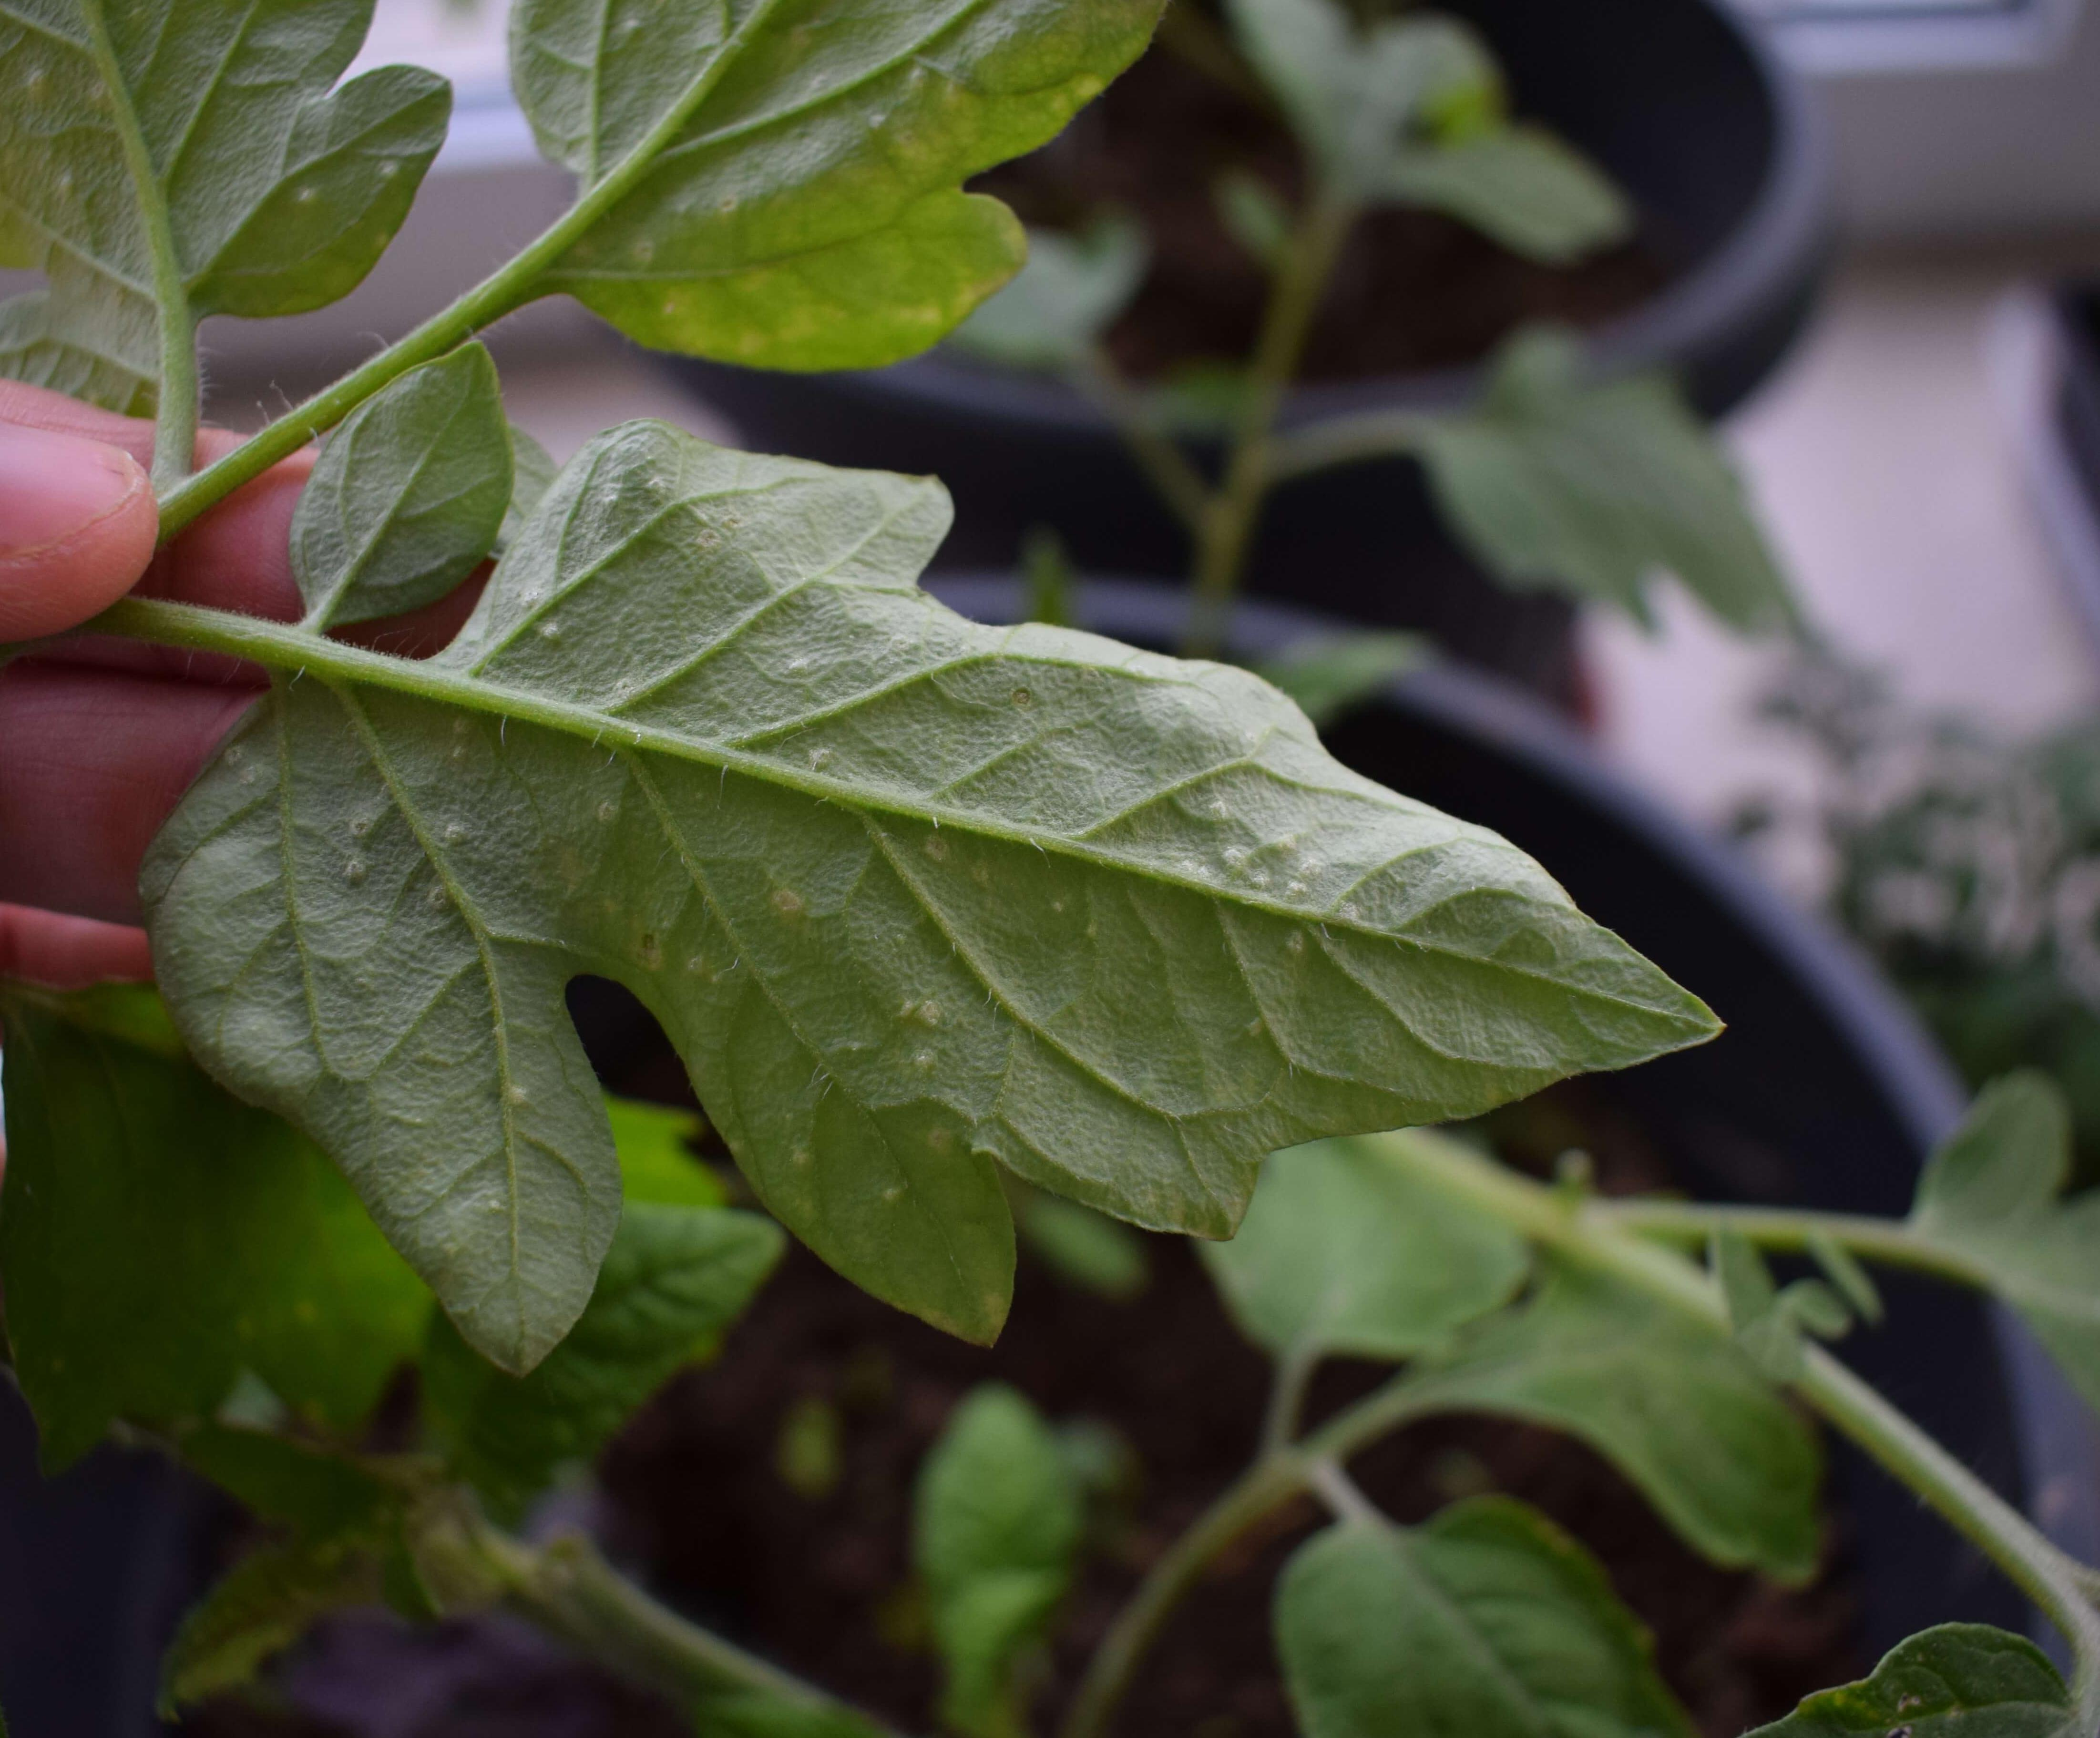Tomato mold leaf: (187, 431, 1739, 1375), (509, 0, 1238, 385), (0, 0, 473, 274), (1233, 1487, 1720, 1738)
